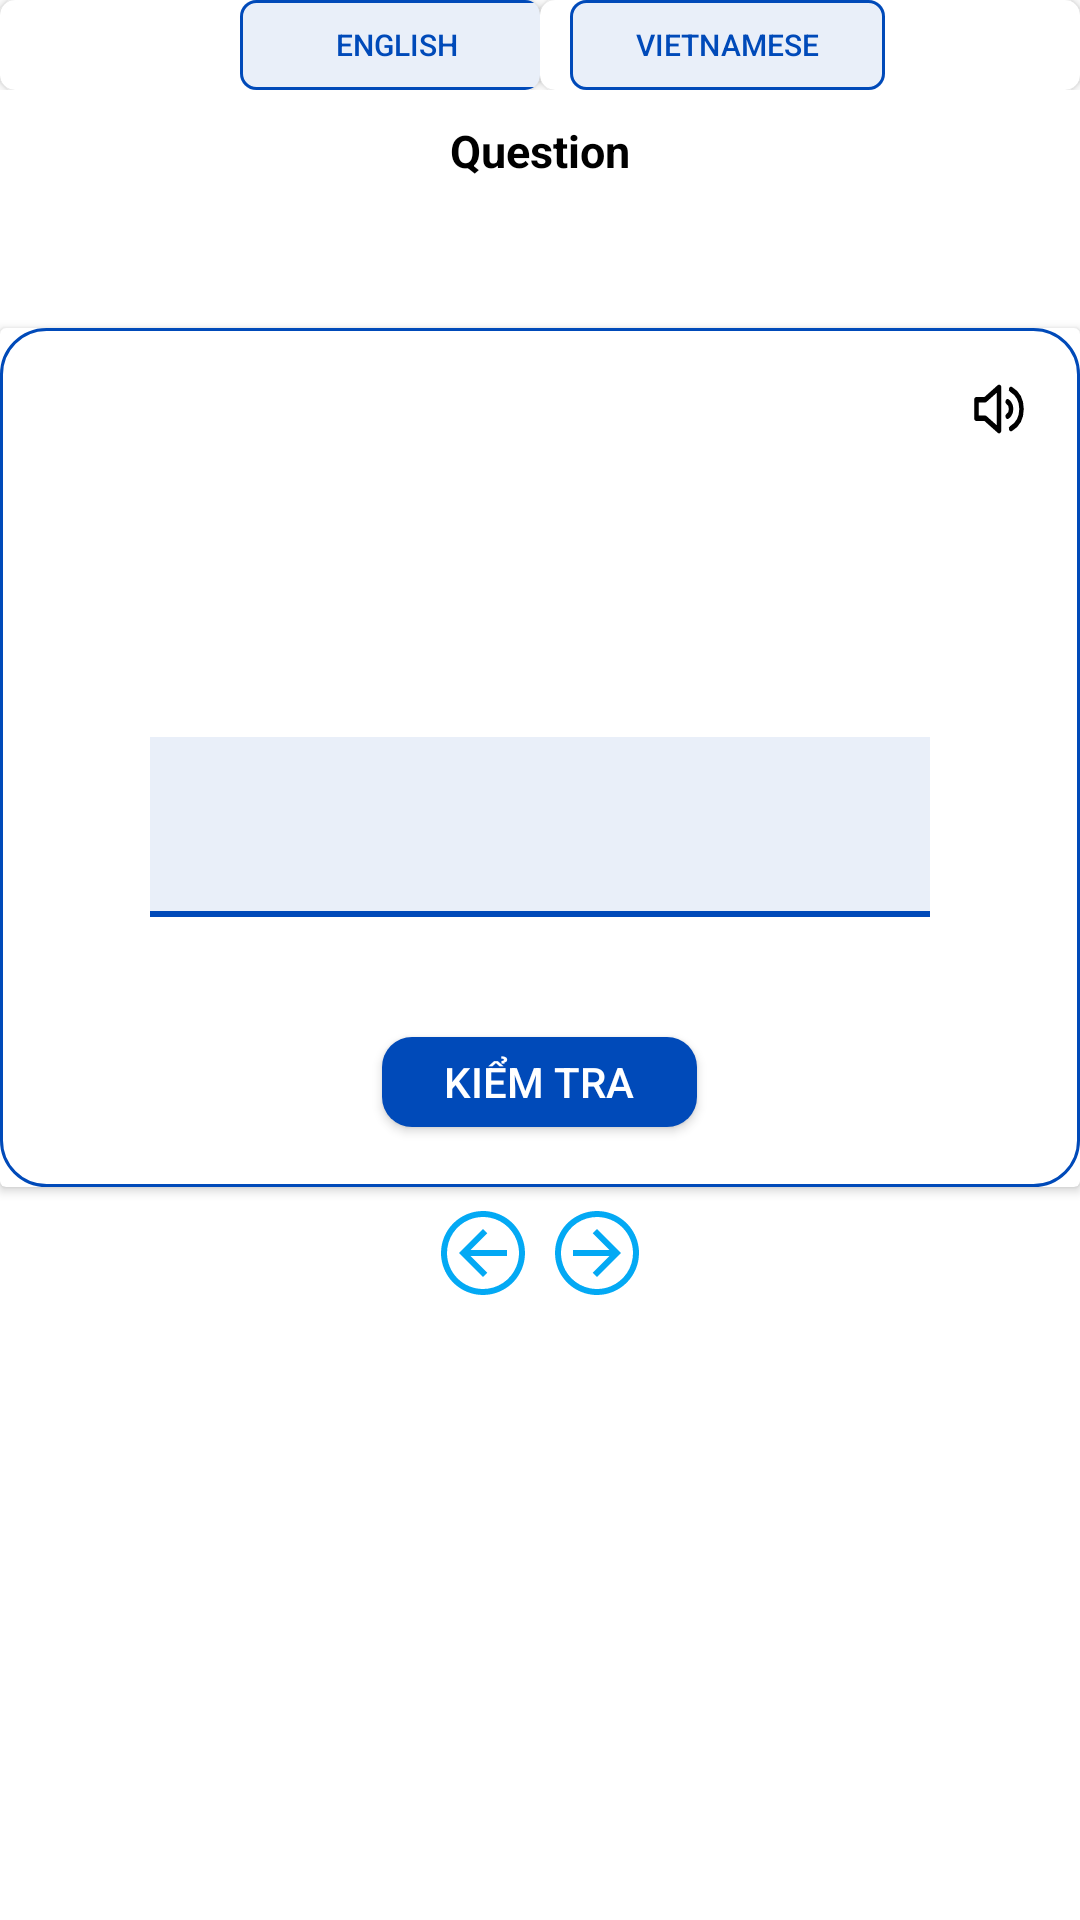

Named icons in this screenshot (1080px×1920px) and their centers, point (x, y):
speaker: point (999, 409)
